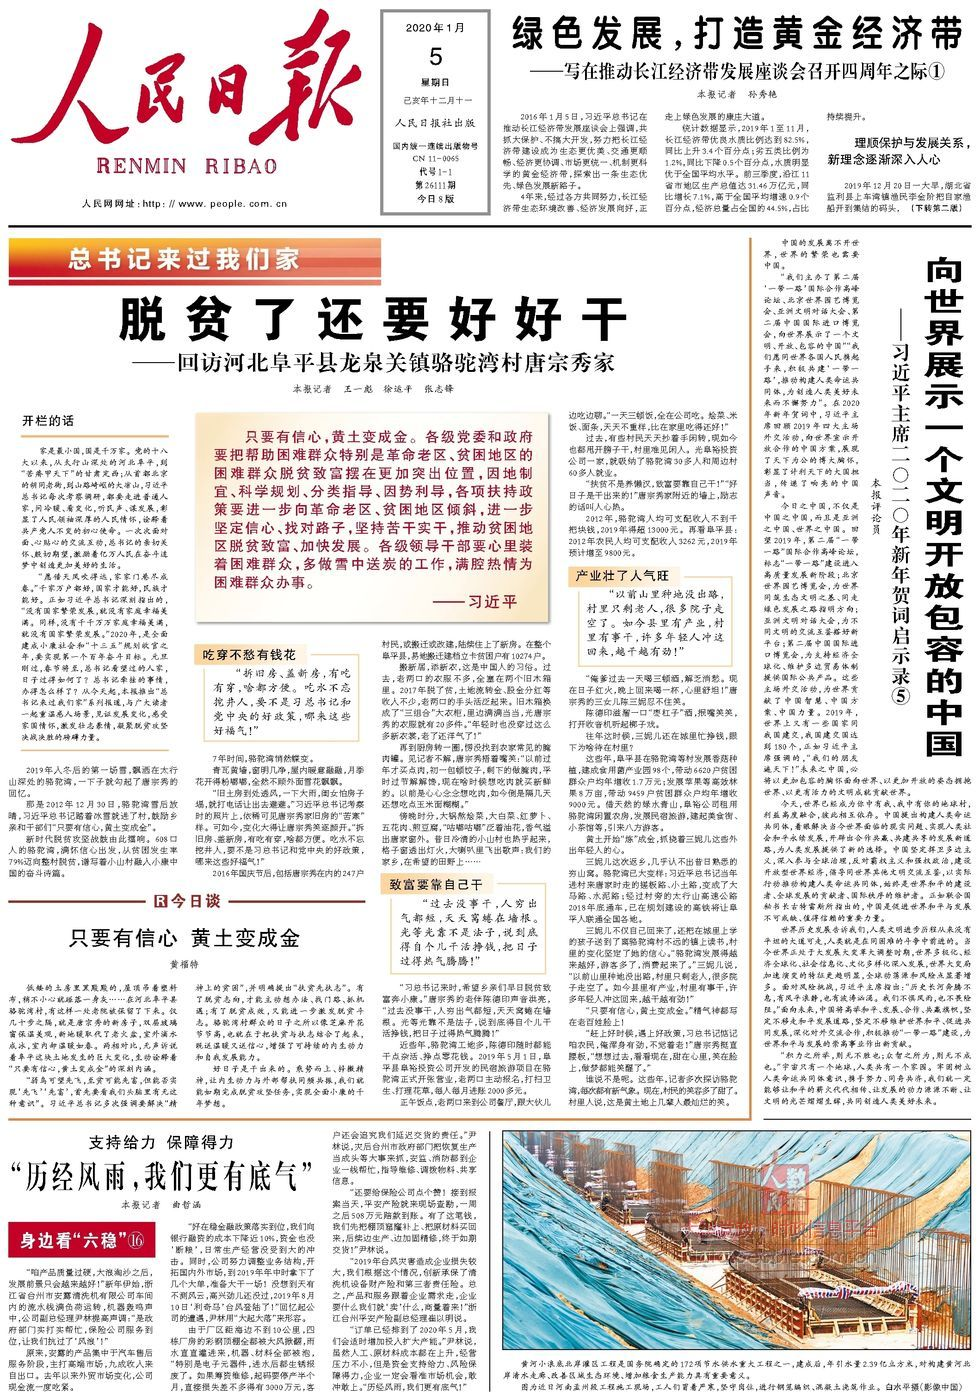pic: (497, 1126, 975, 1354)
